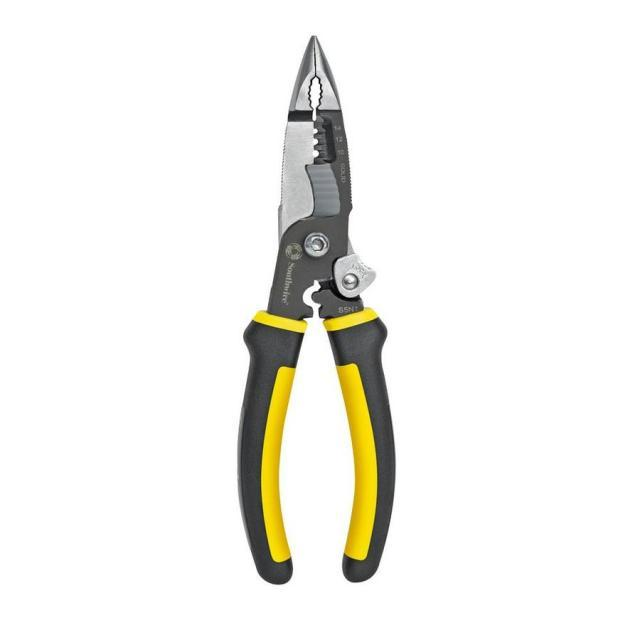pliers: (230, 28, 404, 592)
